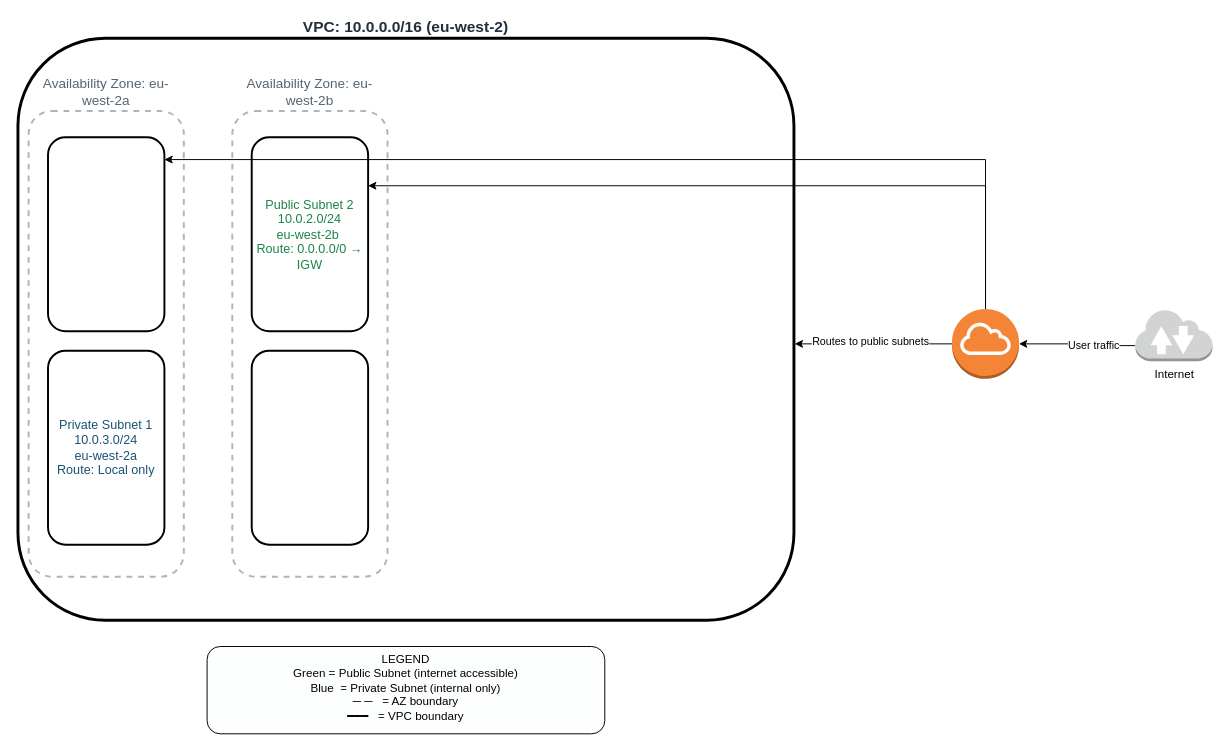
Some shapes in this 1230 by 751 pixel diagram are drawn without their labels. The shapes that lost their labels are listed below. From the top down, each one's centre as x and y in pixels, then its label:
At [106,234]: "Public Subnet 1 10.0.1.0/24 eu-west-2a Route: 0.0.0.0/0 → IGW".
At [985,343]: "Internet Gateway my-igw".
At [309,447]: "Private Subnet 2 10.0.4.0/24 eu-west-2b Route: Local only".
